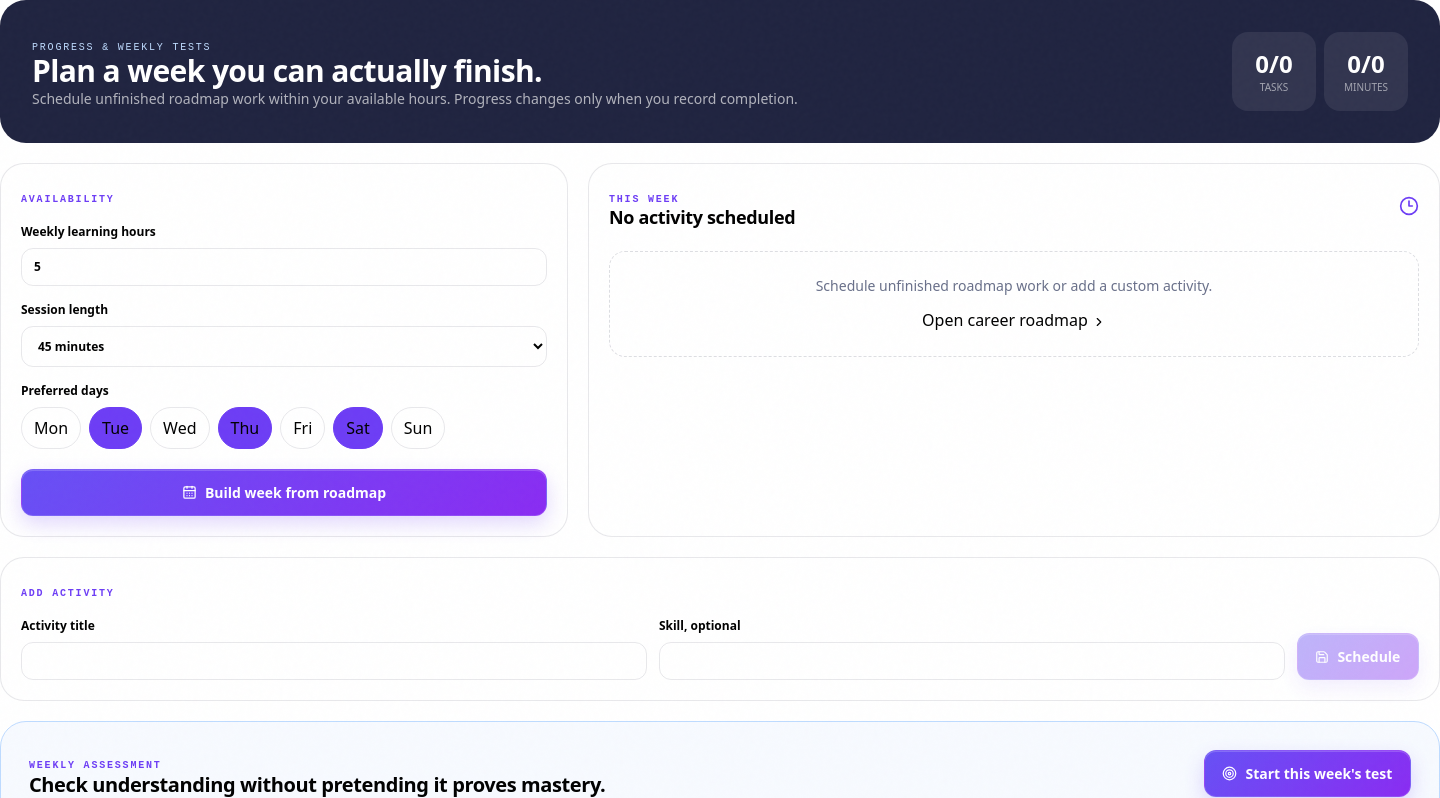
Test: WeeklyPlanner › records progress only after an explicit completion action
Check: the heading "Plan a week you can actually finish." is shown, box [32,50,542,91]
What coordinates should you click on to do the following:
click the button "Build week from roadmap"
I would click on:
 (284, 492)
Its box is [21,469,547,516].
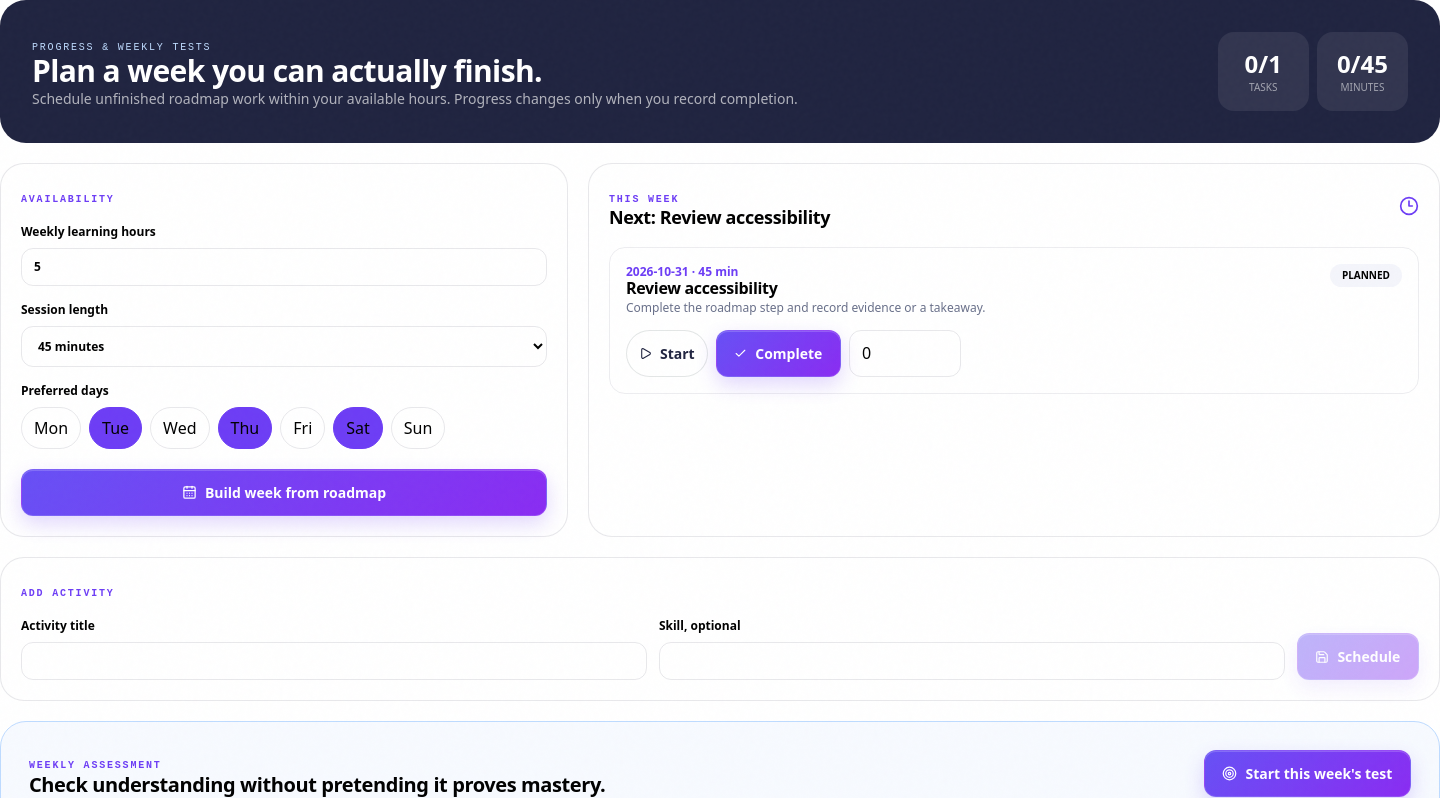
Check: the text "0/1" is shown, box [1245,47,1282,80]
What coordinates should you click on to do the following:
click the button "Complete"
I would click on:
 (778, 353)
Its box is [716,330,841,377].
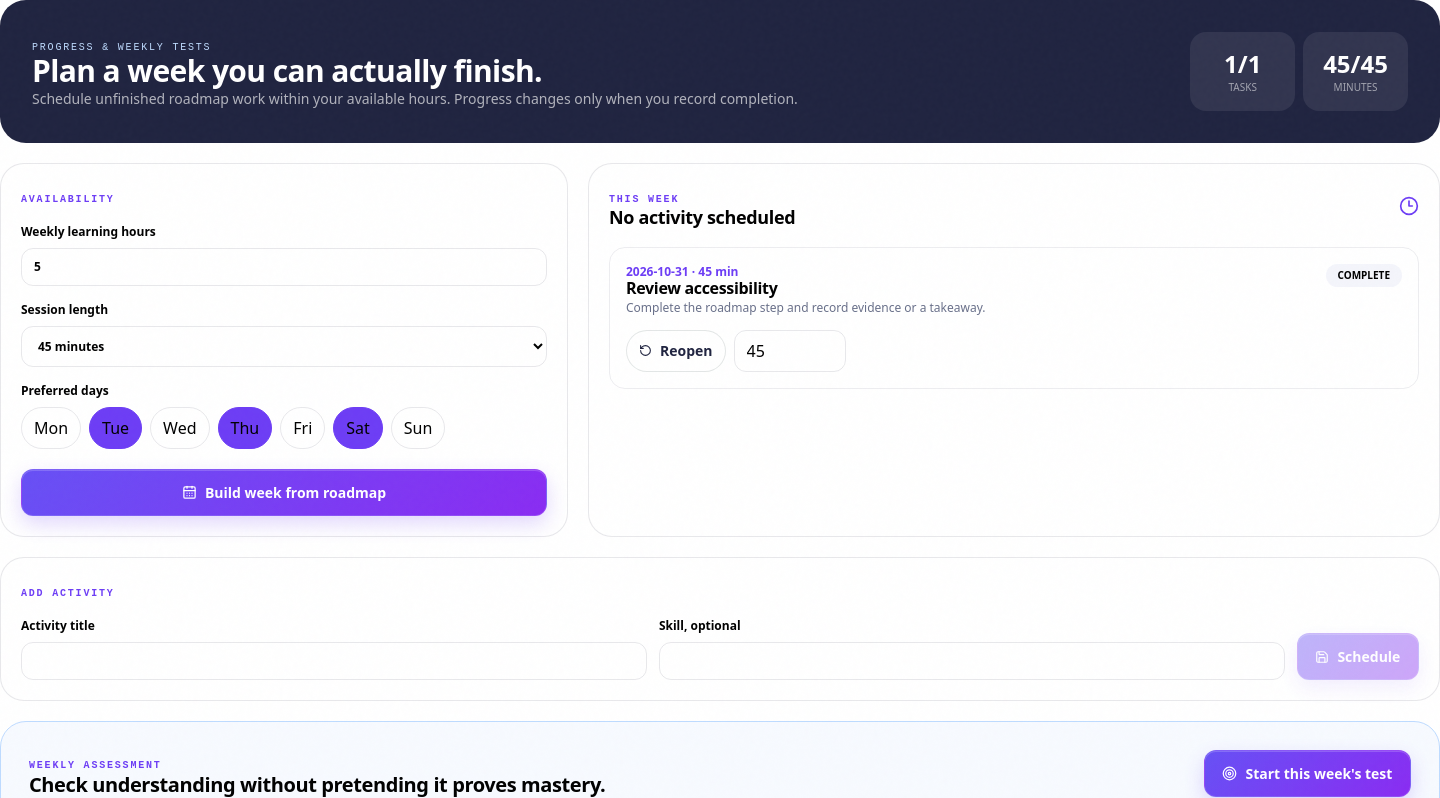
Check: the text "1/1" is shown, box [1224,47,1261,80]
